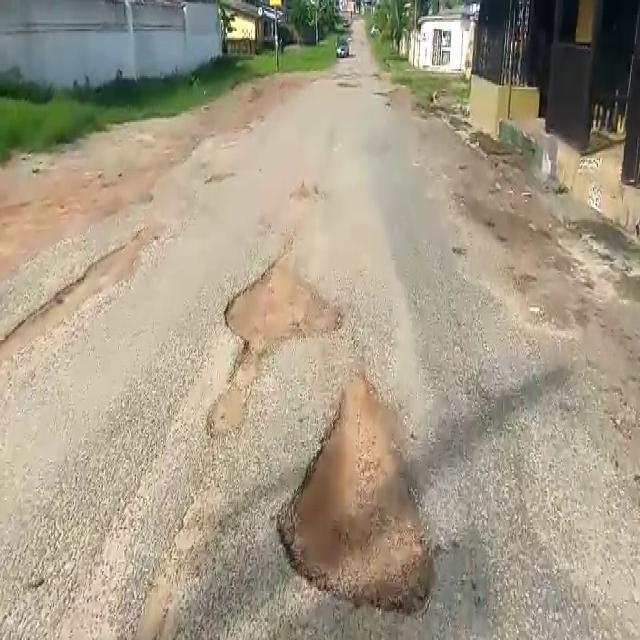pothole: (267, 371, 452, 622), (213, 257, 347, 359), (199, 169, 232, 188)
